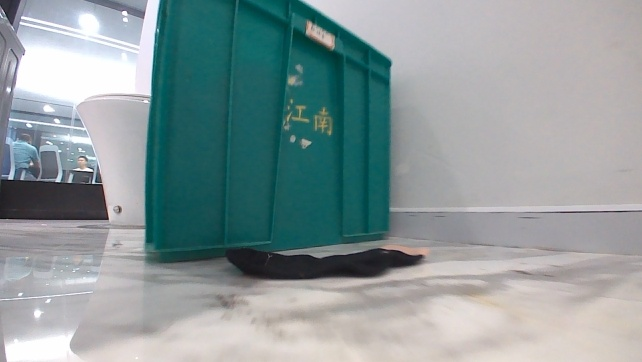socks: (222, 241, 429, 281)
toilet: (73, 88, 154, 229)
